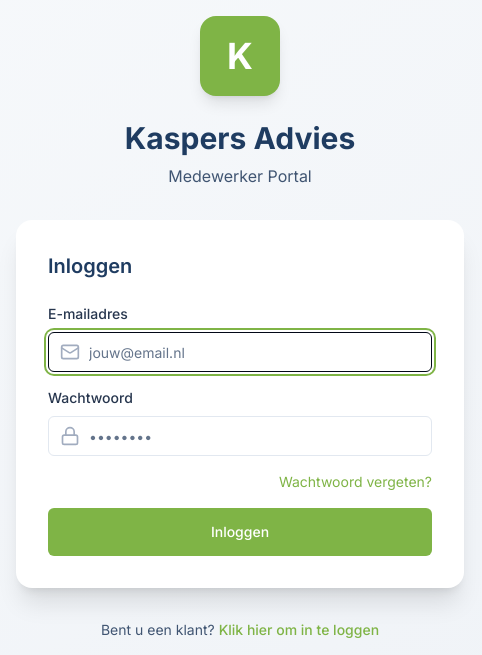
Test: LoginPage › form submission › shows loading state during submission
In the field with placeholder "jouw@email.nl": [240, 352] box [48, 332, 432, 372], type "test@example.com"
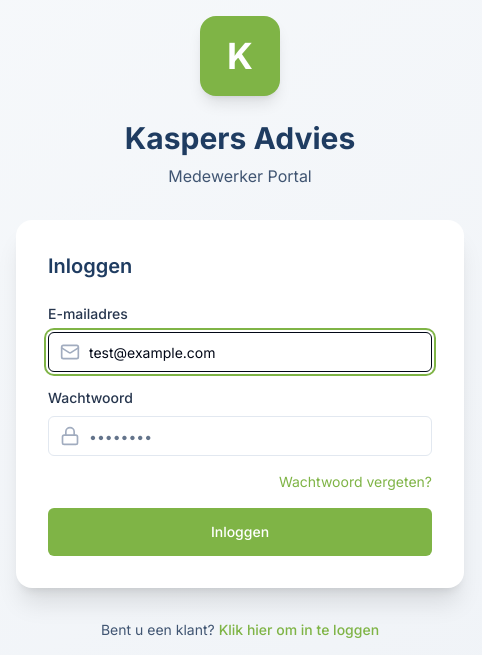
In the password field with placeholder "••••••••": [240, 436] box [48, 416, 432, 456], type "password123"
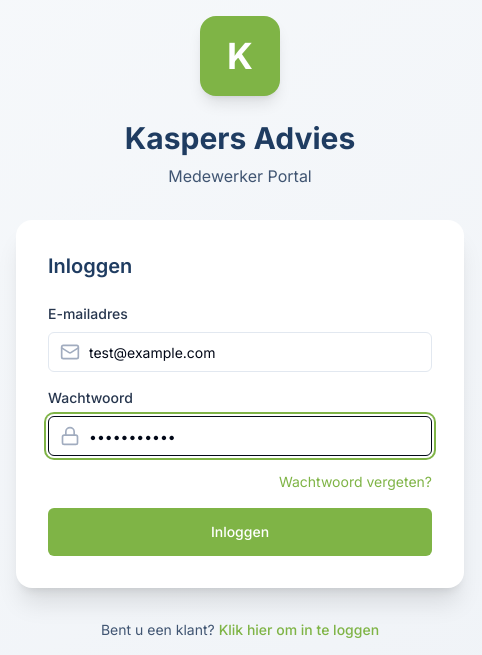
Click the button "Inloggen": [240, 532] box [48, 508, 432, 556]
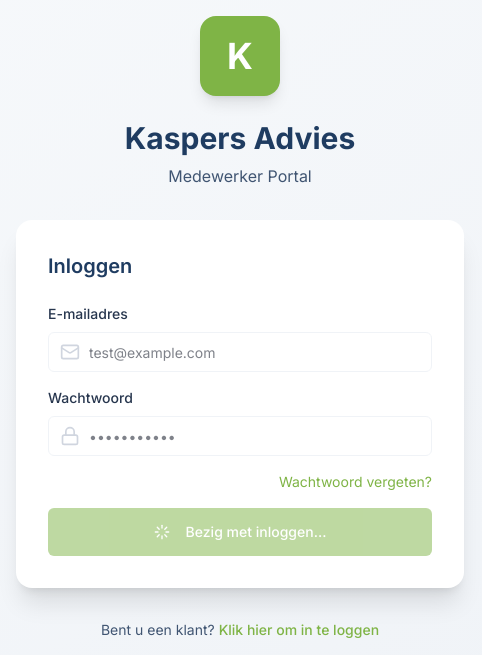
Expected: the button "Bezig met inloggen..." is shown, [48, 508, 432, 556]
